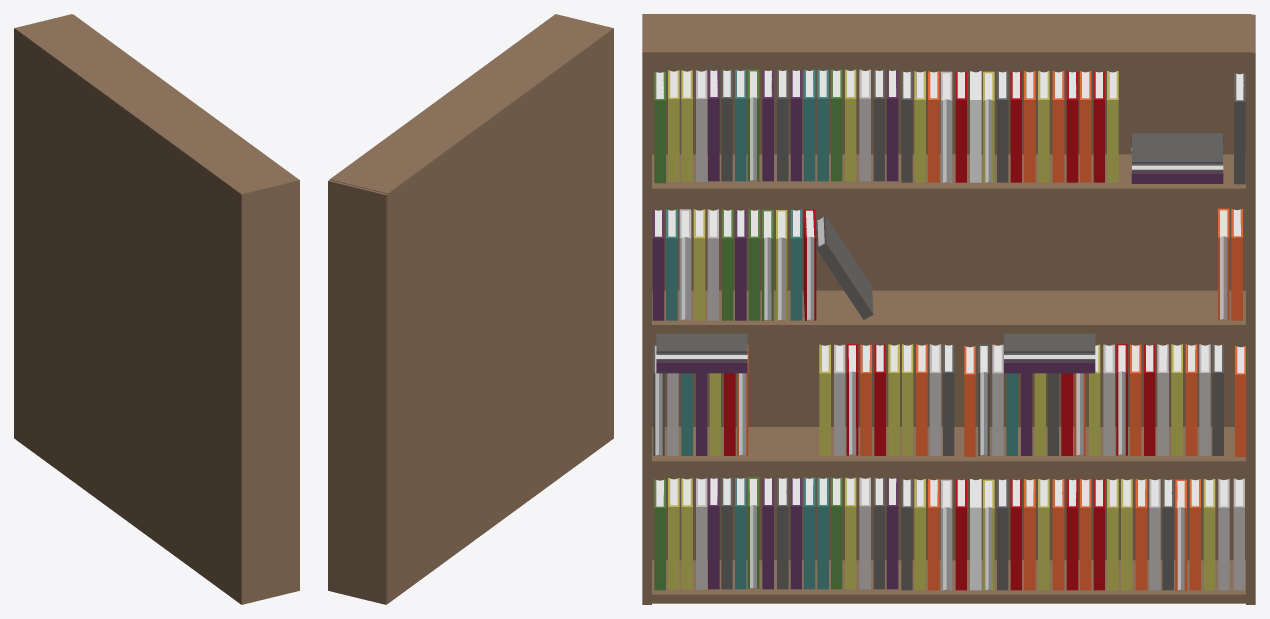
3 views of the same model, side by side, from view 1: azimuth 30°, elevation 25°; view 2: azimuth 150°, elevation 25°; view 3: azimuth 270°, elevation 25° (orthographic). The views are drawn at different scales.
Visible parts, largest first — view 1: Cube.000; view 2: Cube.000; view 3: Cube.000, Cube.002, Cube.004, Cube.005, Cube.009, Cube.007, Cube.001, Cube.003, Cube.008, Cube.006.
Boxes of the visible parts, box(x1,y1,x2,y2) form: Cube.000: box(14, 14, 299, 604); Cube.000: box(328, 14, 613, 604); Cube.000: box(642, 14, 1255, 604); Cube.002: box(655, 70, 1244, 590); Cube.004: box(653, 69, 1245, 590); Cube.005: box(668, 69, 1215, 590); Cube.009: box(737, 71, 1245, 590); Cube.007: box(667, 69, 1244, 590); Cube.001: box(652, 69, 1223, 589); Cube.003: box(724, 71, 1155, 590); Cube.008: box(666, 69, 1017, 589); Cube.006: box(654, 69, 842, 590).
Size of the model in its own units: 87.43 by 588 by 591.
